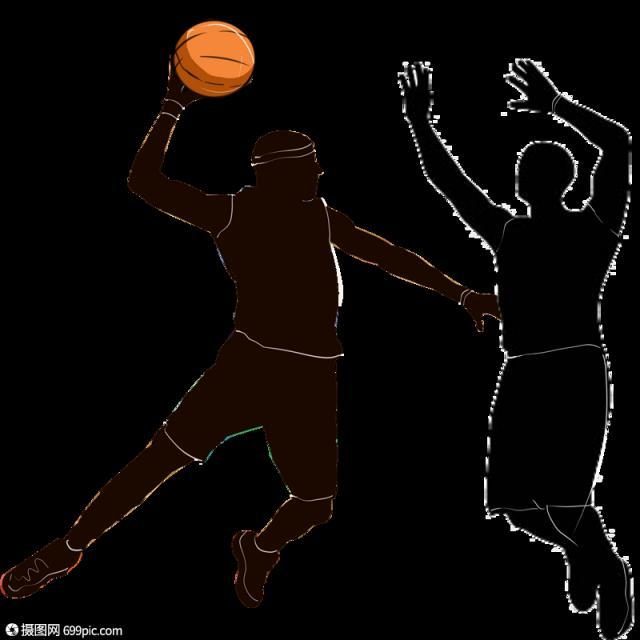rim: (170, 21, 258, 98)
